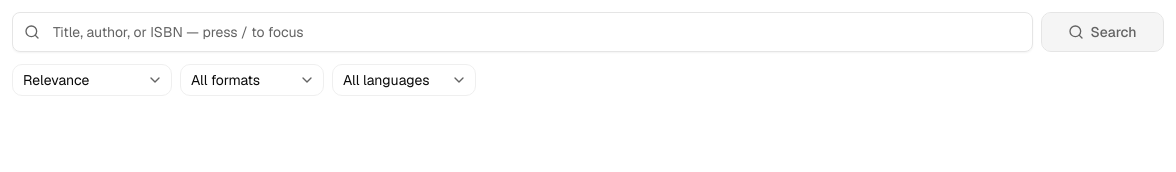
SearchToolbar capabilities (#61) › renders format options from capabilities props, not hard-coded constants
The width and height of the screenshot is (1176, 172).
Click the dropdown named "Filter by file extension" at (252, 80), box [180,64,324,96]
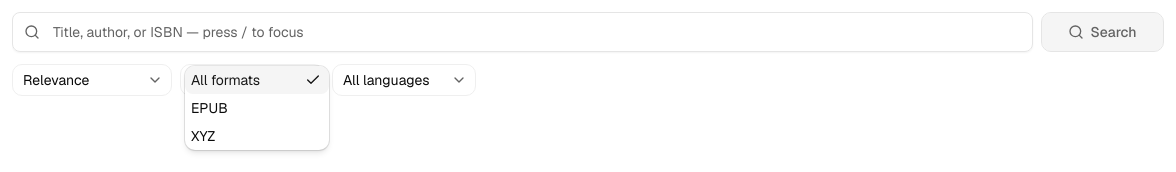
expect the option "XYZ" is shown: met, box [191,127,215,145]
expect the option "EPUB" is shown: met, box [191,99,228,117]
